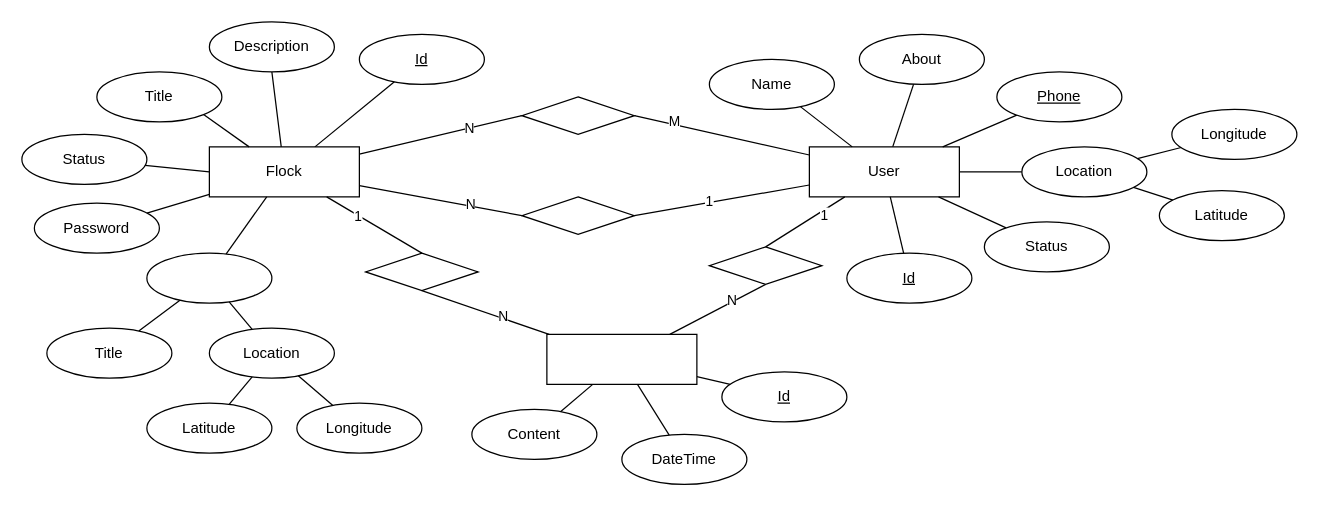
Some shapes in this 1319 by 506 pixel diagram are drawn without their labels. The shapes that lost their labels are listed below. From the top down, each one's centre as x and y in pixels, then its label:
At (577,115): "Join".
At (577,215): "Lead".
At (209,277): "Destination".
At (421,271): "To".
At (765,265): "Send".
At (621,358): "Message".
